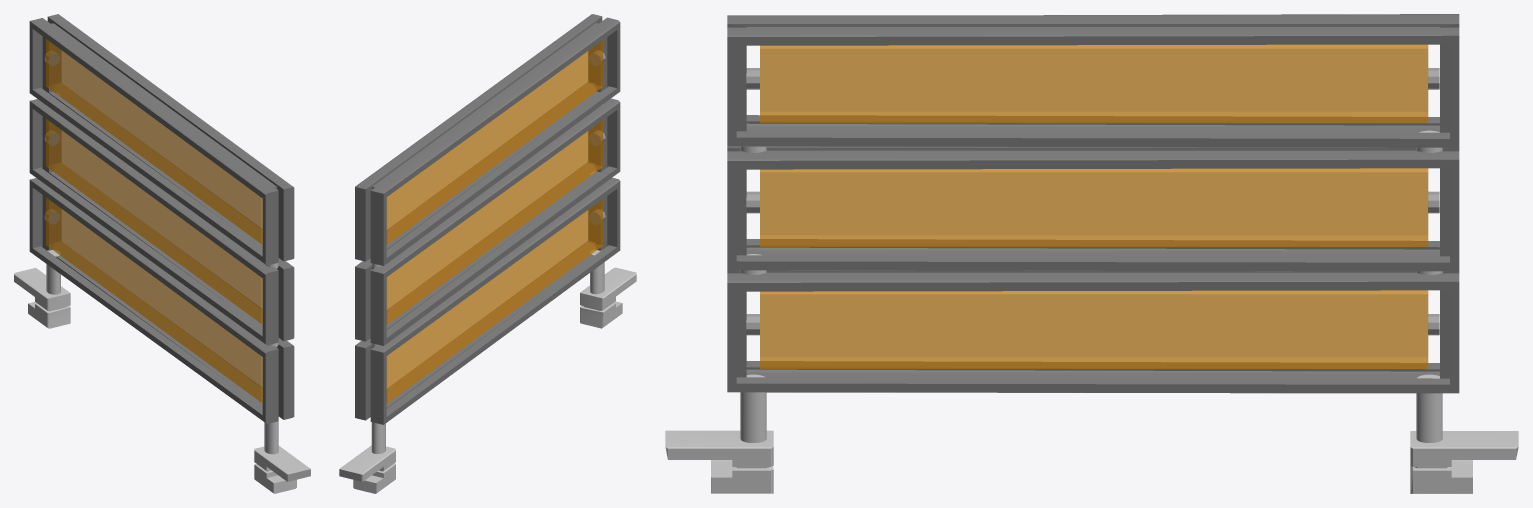
The model's file is lowObstacle.fbx.
The picture shows the model from 3 angles, left to right: view 1: azimuth 30°, elevation 25°; view 2: azimuth 150°, elevation 25°; view 3: azimuth 270°, elevation 25°; orthographic projection. The views are drawn at different scales.
Parts seen in each view (by area): view 1: pCube1 (×3), pCube2 (×3), plankFeet1, plankFeet, leg1, leg; view 2: pCube1 (×3), pCube2 (×3), plankFeet, plankFeet1, leg, leg1; view 3: pCube2 (×3), pCube1 (×3), plankFeet, plankFeet1, leg, leg1.
Boxes of the visible parts, x1=… form: pCube1 (×3): x1=29, y1=14, x2=294, y2=423; pCube2 (×3): x1=46, y1=39, x2=262, y2=402; plankFeet1: x1=14, y1=268, x2=70, y2=328; plankFeet: x1=254, y1=446, x2=310, y2=493; leg1: x1=264, y1=421, x2=278, y2=454; leg: x1=46, y1=250, x2=60, y2=294; pCube1 (×3): x1=355, y1=14, x2=620, y2=424; pCube2 (×3): x1=386, y1=40, x2=603, y2=403; plankFeet: x1=580, y1=267, x2=636, y2=328; plankFeet1: x1=339, y1=445, x2=395, y2=493; leg: x1=371, y1=422, x2=385, y2=453; leg1: x1=590, y1=249, x2=604, y2=294; pCube2 (×3): x1=760, y1=44, x2=1428, y2=368; pCube1 (×3): x1=727, y1=14, x2=1459, y2=393; plankFeet: x1=665, y1=430, x2=773, y2=493; plankFeet1: x1=1410, y1=431, x2=1518, y2=493; leg: x1=1416, y1=374, x2=1442, y2=442; leg1: x1=740, y1=374, x2=766, y2=442.
Size of the model in its own units: 0.5381 by 5.3 by 8.9.
